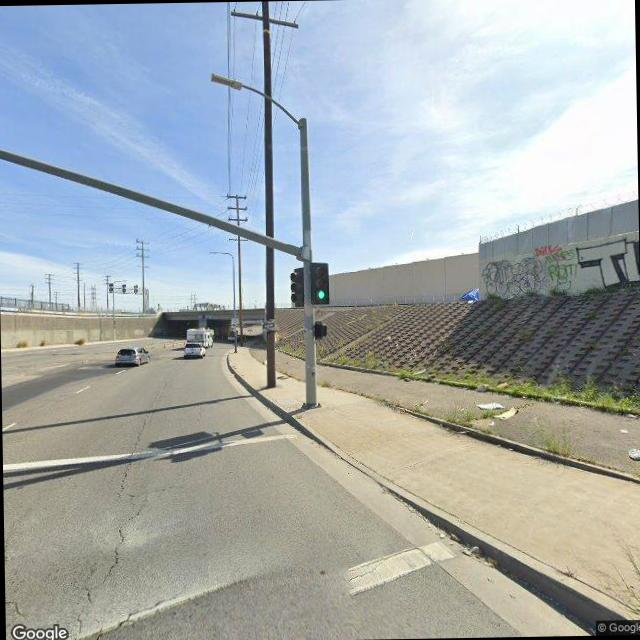crack: (67, 388, 156, 623)
